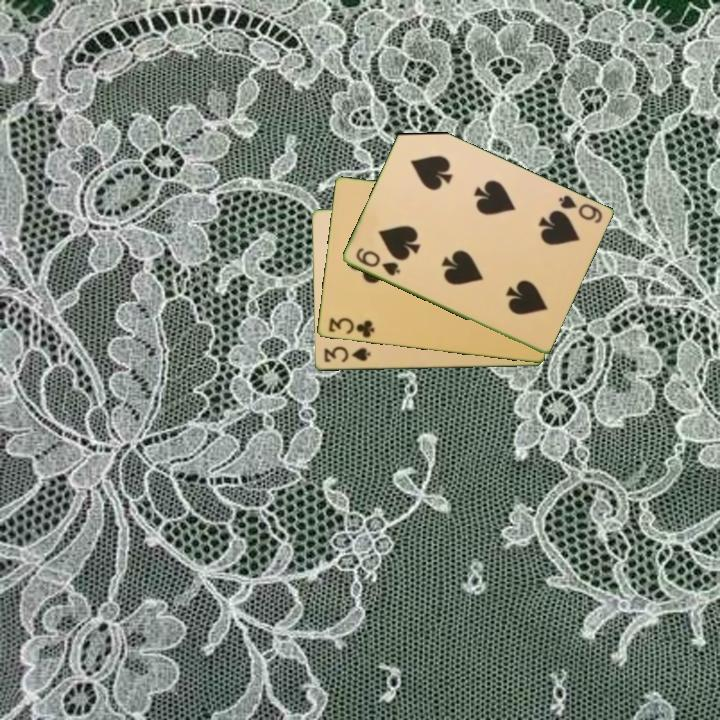3c: (325, 314, 377, 341)
3s: (320, 344, 373, 366)
6s: (554, 191, 605, 227), (352, 244, 403, 279)
